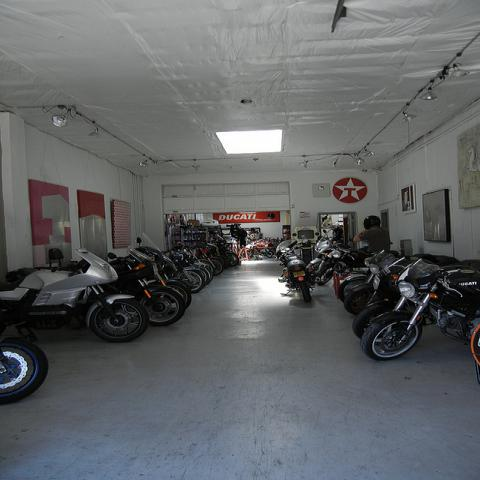motorcycle: (0, 247, 152, 343), (361, 259, 480, 360), (350, 255, 479, 341), (103, 245, 187, 326), (139, 237, 276, 278), (136, 236, 192, 310), (307, 229, 394, 275), (0, 340, 51, 408), (338, 250, 404, 302), (275, 240, 320, 303), (318, 242, 372, 286), (163, 250, 204, 294), (170, 249, 212, 285), (344, 274, 374, 316)
